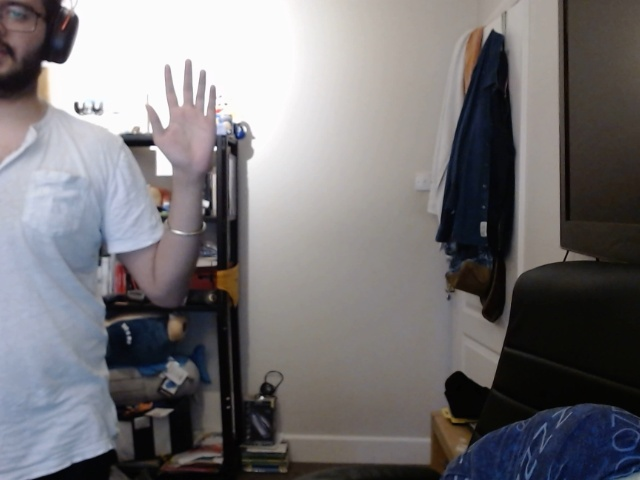Hello: (139, 52, 223, 177)
